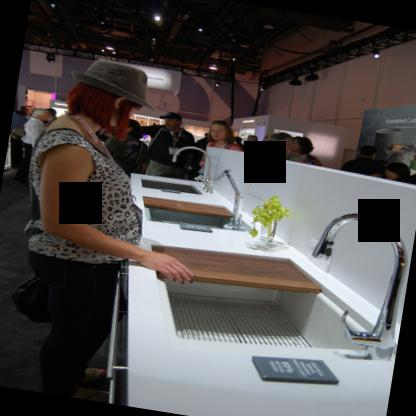handbag: (12, 272, 55, 323)
